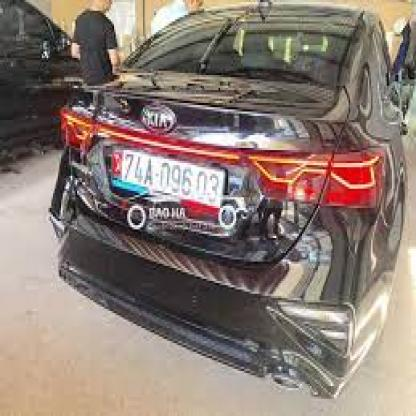biensoxe: (112, 146, 228, 223)
